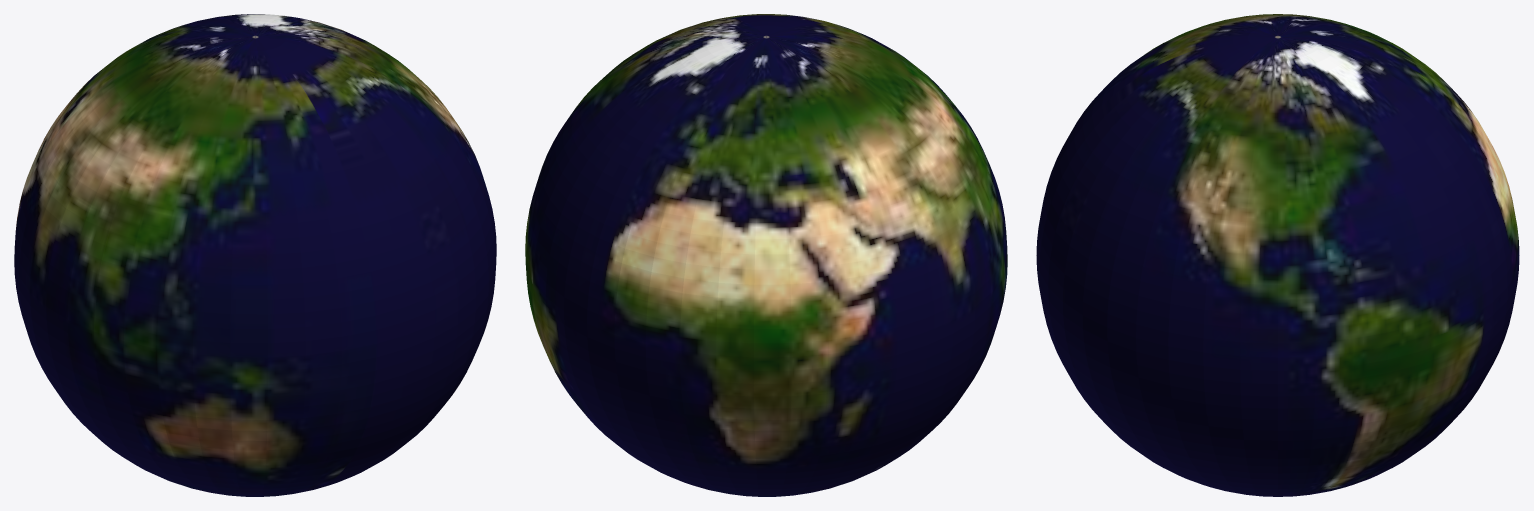
The model's file is earth.obj.
The picture shows the model from 3 angles, left to right: view 1: azimuth 30°, elevation 25°; view 2: azimuth 150°, elevation 25°; view 3: azimuth 270°, elevation 25°; orthographic projection.
Parts seen in each view (by area): view 1: Sphere; view 2: Sphere; view 3: Sphere.
Boxes of the visible parts, bbox=[...] form: Sphere: bbox=[14, 14, 496, 496]; Sphere: bbox=[525, 14, 1007, 496]; Sphere: bbox=[1036, 14, 1519, 496].
Size of the model in its own units: 2 by 2 by 2.
Materials: 1 (1 with a texture image).
